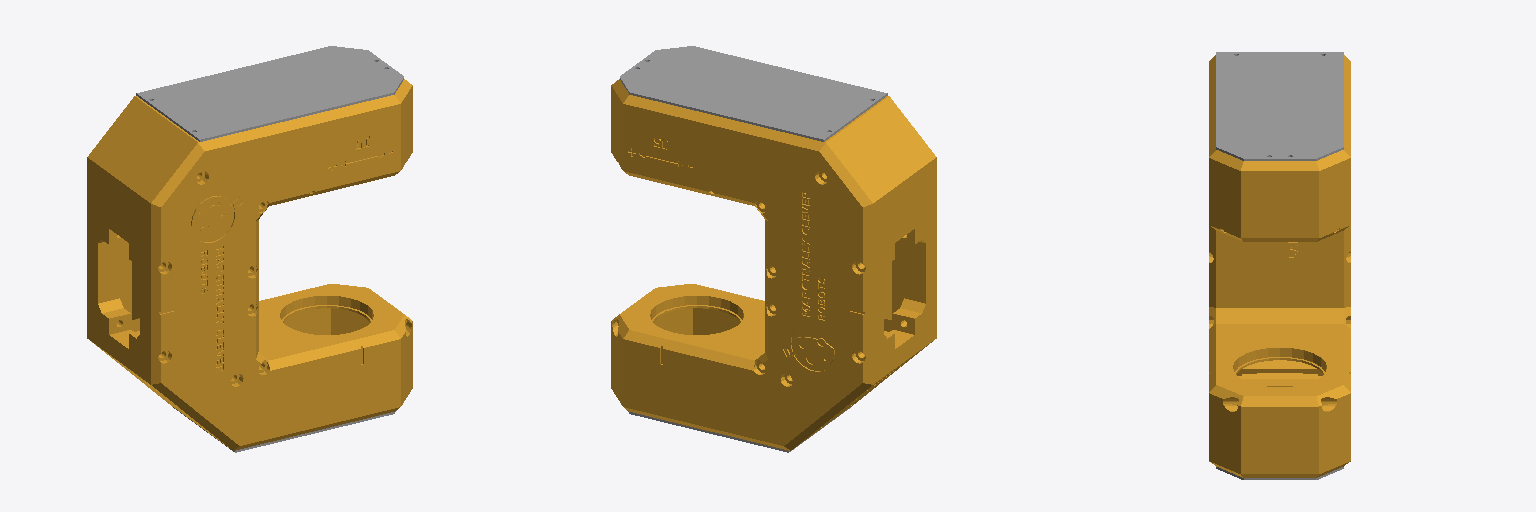
3 views of the same model, side by side, from view 1: azimuth 30°, elevation 25°; view 2: azimuth 150°, elevation 25°; view 3: azimuth 270°, elevation 25° (orthographic).
Visible parts, largest first — view 1: tuningFork; view 2: tuningFork; view 3: tuningFork.
Part boxes in pixels (bbox=[...]): tuningFork: bbox=[87, 46, 412, 452]; tuningFork: bbox=[611, 46, 936, 452]; tuningFork: bbox=[1209, 52, 1350, 479].
Size of the model in its own units: 12.45 by 13.97 by 5.6.
Materials: 1 (1 with a texture image).